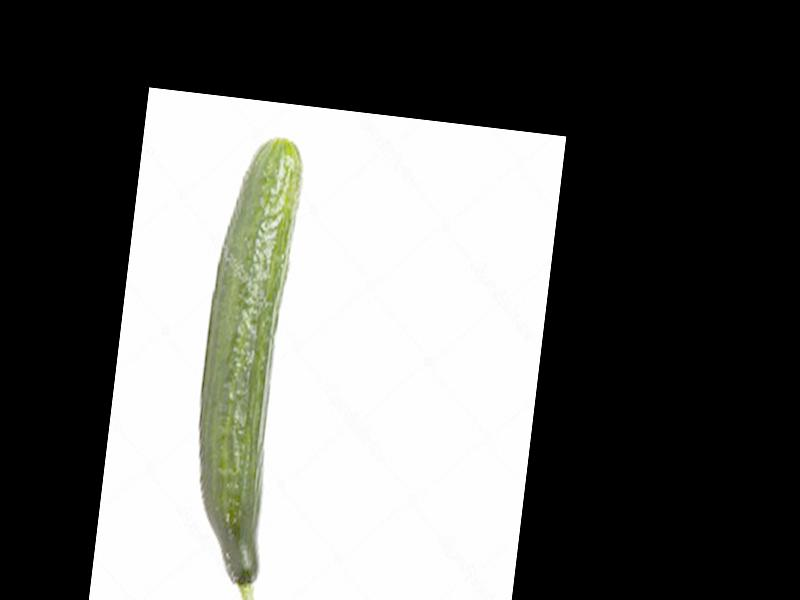Cucumber: (174, 134, 326, 600)
